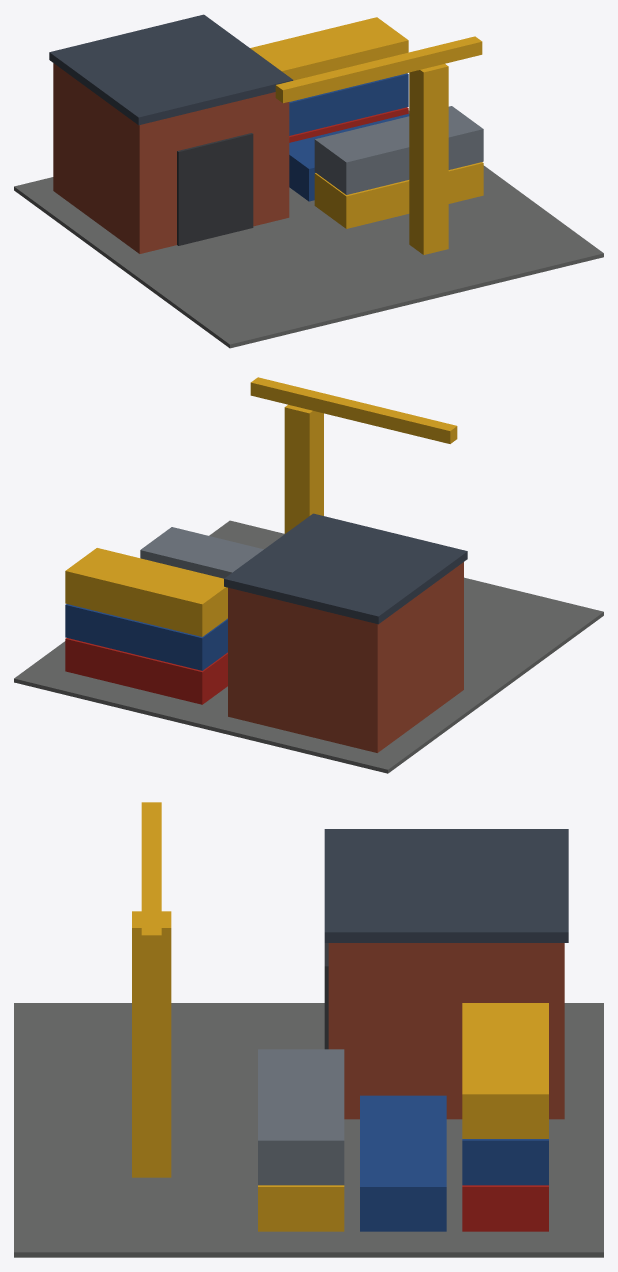
File: bld_special_logistics_depot_a05_lod2.glb
The picture shows the model from 3 angles, top to bottom: view 1: azimuth 30°, elevation 25°; view 2: azimuth 150°, elevation 25°; view 3: azimuth 270°, elevation 25°; orthographic projection. The views are drawn at different scales.
Parts seen in each view (by area): view 1: body, crane; view 2: body, crane; view 3: body, crane.
Boxes of the visible parts, <box> form: body: <box>14,14,603,348</box>; crane: <box>275,36,482,254</box>; body: <box>14,513,603,773</box>; crane: <box>250,377,457,533</box>; body: <box>14,829,603,1257</box>; crane: <box>132,802,171,1177</box>.
Size of the model in its own units: 15 by 7.65 by 15.
